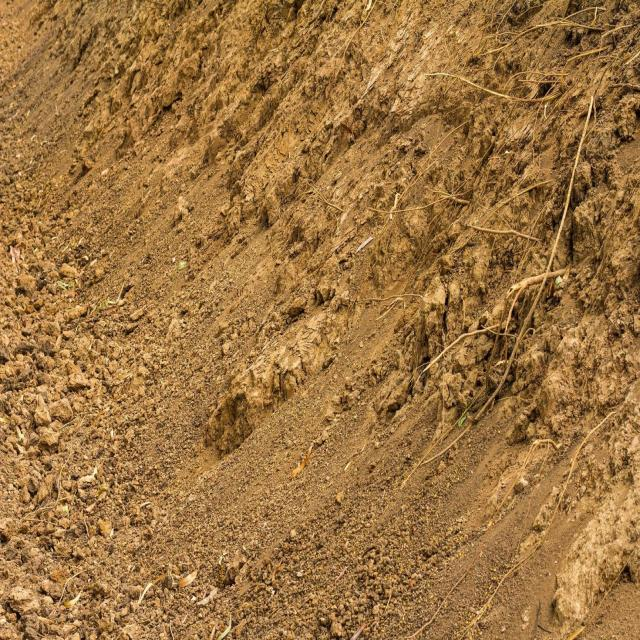suelo_seco: (67, 95, 387, 580)
